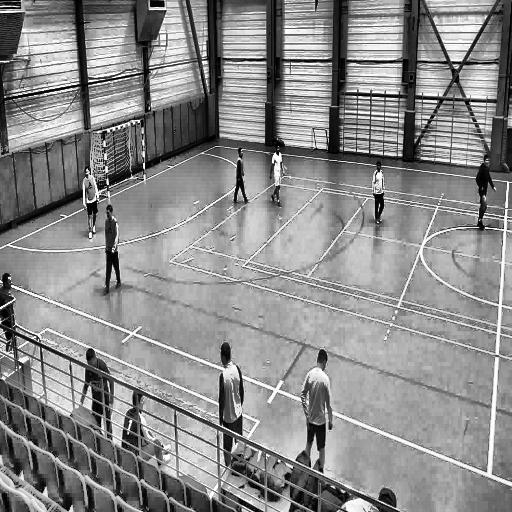player: (298, 347, 334, 467), (216, 341, 246, 464), (102, 204, 124, 301), (474, 150, 498, 233), (229, 147, 252, 205), (82, 166, 100, 240), (269, 139, 285, 211), (372, 154, 387, 230)
